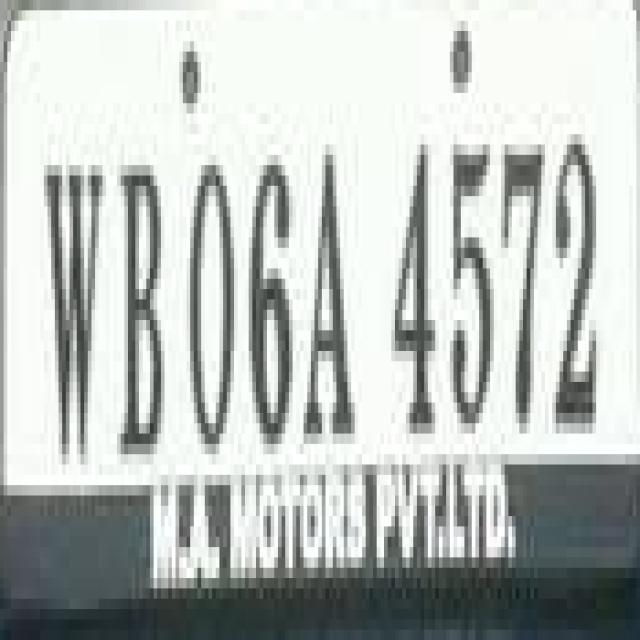license_plate: (0, 0, 607, 599)
